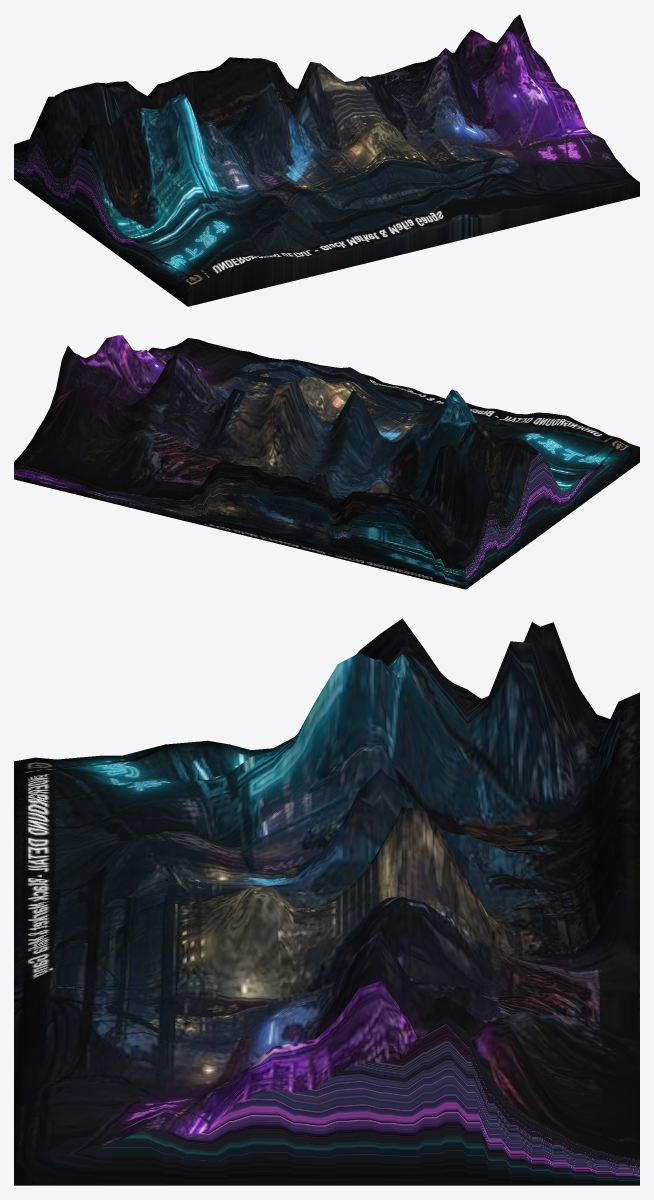
The model's file is DISTRICT_15_Underground_Black_Market.glb.
The picture shows the model from 3 angles, top to bottom: view 1: azimuth 30°, elevation 25°; view 2: azimuth 150°, elevation 25°; view 3: azimuth 270°, elevation 25°; orthographic projection. The views are drawn at different scales.
Parts seen in each view (by area): view 1: DISTRICT_15_Underground_Black_Market; view 2: DISTRICT_15_Underground_Black_Market; view 3: DISTRICT_15_Underground_Black_Market.
Part boxes in pixels (x1=…): DISTRICT_15_Underground_Black_Market: x1=14, y1=14, x2=639, y2=306; DISTRICT_15_Underground_Black_Market: x1=14, y1=335, x2=639, y2=589; DISTRICT_15_Underground_Black_Market: x1=14, y1=618, x2=639, y2=1185.
Bounding box in the file's own units: 2 × 0.51 × 1.33.
1 material, 1 textured.
